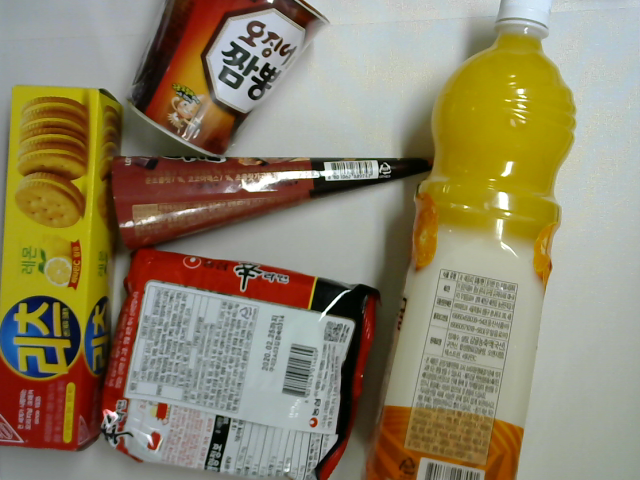GooGoo_Cone_CVS: (107, 152, 454, 250)
Jeju_Tangerine_1.5L: (361, 1, 580, 480)
Ojjam: (122, 1, 334, 162)
Ritz_Remon_96g: (1, 80, 125, 452)
Sinramen: (98, 245, 380, 480)
